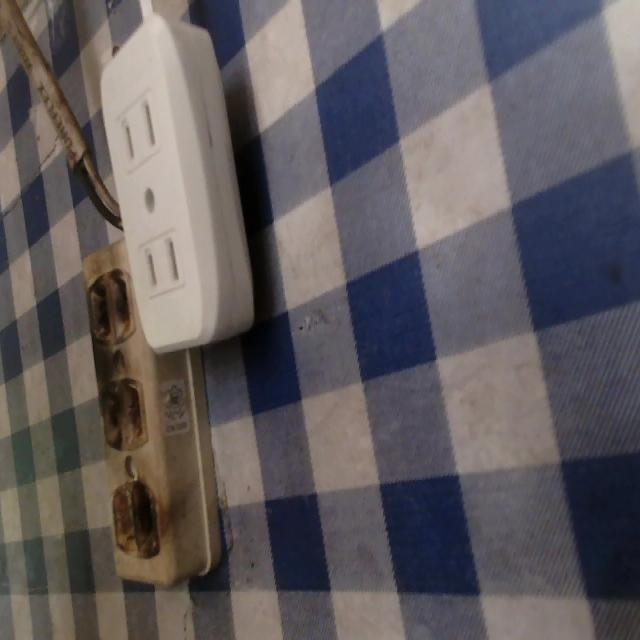-: (97, 376, 152, 457), (82, 266, 135, 346), (109, 475, 160, 556)
